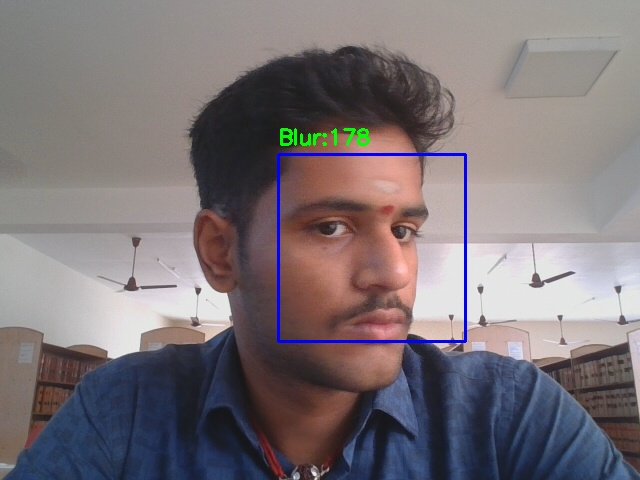real: (278, 154, 465, 341)
